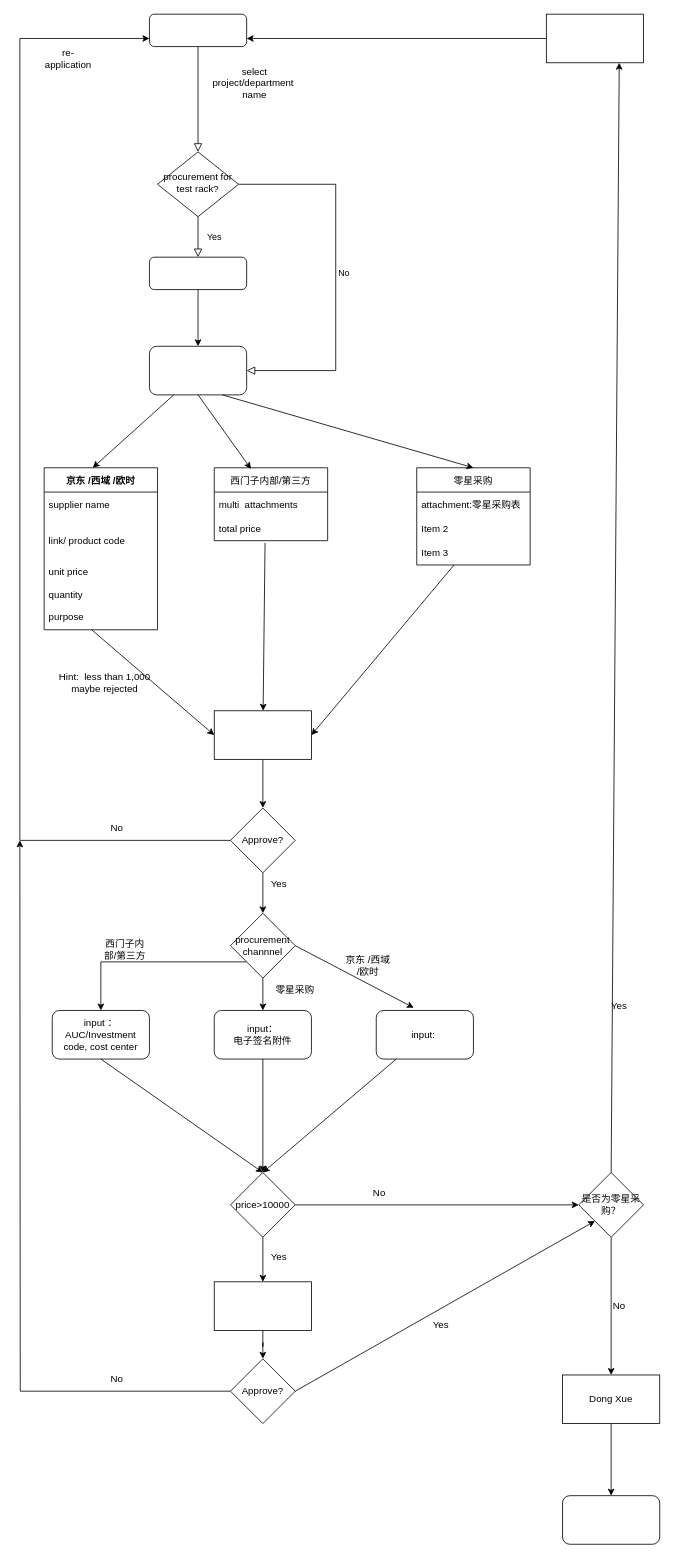
Image size: 674x1558. Some labels were removed from this diagram. The shapes that lost their labels are listed below. From the top down, each one's centre as x and y in pixels, then its label:
At [198,30]: "start procurement application".
At [595,38]: "applicant".
At [198,273]: "generate rack code".
At [198,370]: "choose procurement channnel".
At [262,734]: "department manager".
At [262,1305]: "Cluster Manager".
At [611,1519]: "End".
